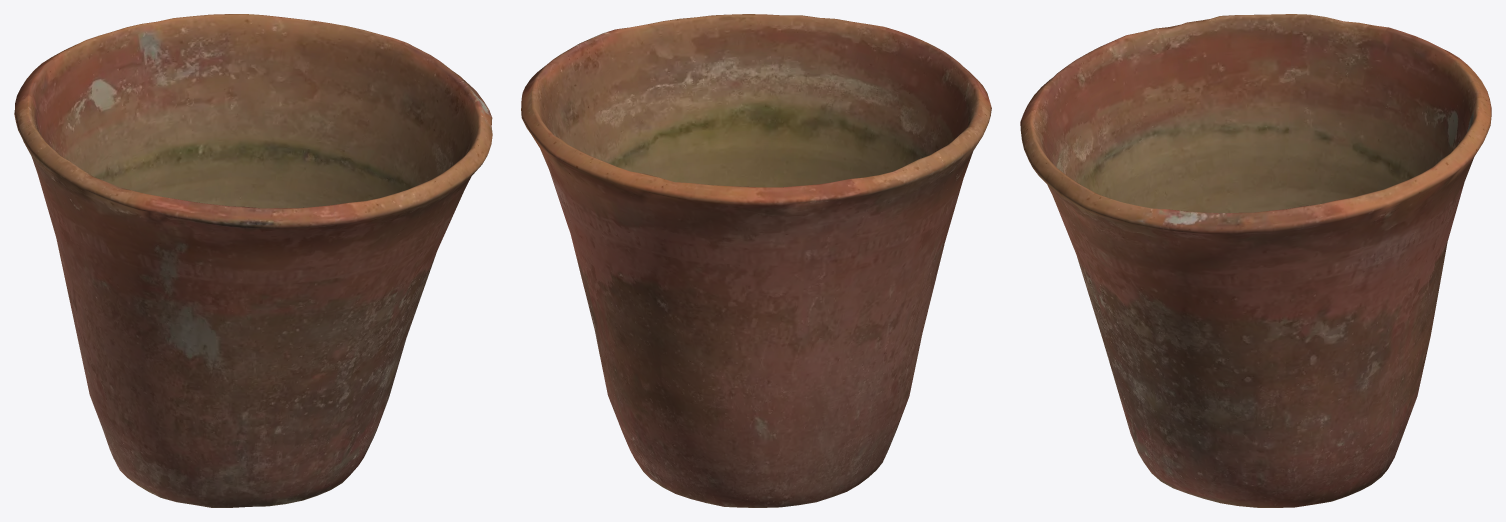
The model's file is planter_pot_clay.glb.
3 views of the same model, side by side, from view 1: azimuth 30°, elevation 25°; view 2: azimuth 150°, elevation 25°; view 3: azimuth 270°, elevation 25° (orthographic).
Visible parts, largest first — view 1: planter_pot_clay; view 2: planter_pot_clay; view 3: planter_pot_clay.
Boxes of the visible parts, x1,y1,x2,y2 form: planter_pot_clay: (14,14,492,507); planter_pot_clay: (521,14,991,507); planter_pot_clay: (1020,14,1491,507).
Size of the model in its own units: 0.266 by 0.2219 by 0.2635.
Materials: 1 (1 with a texture image).
